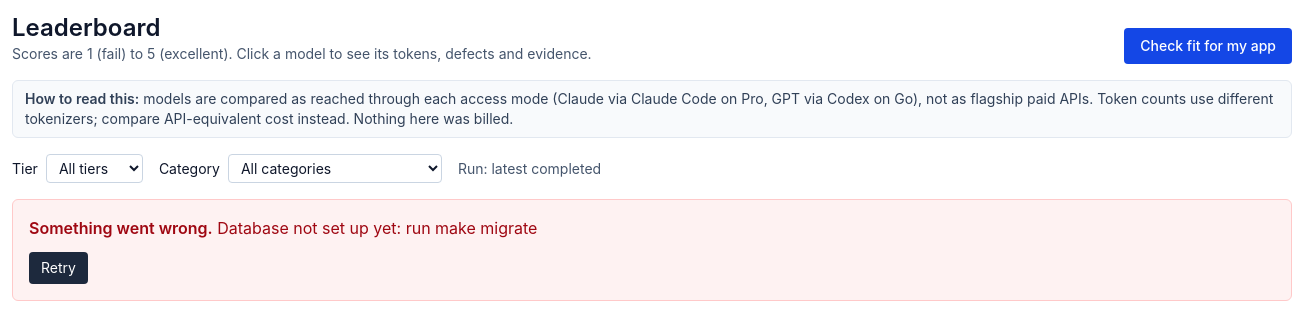
Test: LeaderboardPage (S1) › FE-AC-13: a failed request shows a plain-language error and Retry recovers
Expected: the message shows "Database not set up yet: run make migrate", [217,218,538,238]
Click the button "Retry".
click(58, 268)  # box [29,252,88,284]
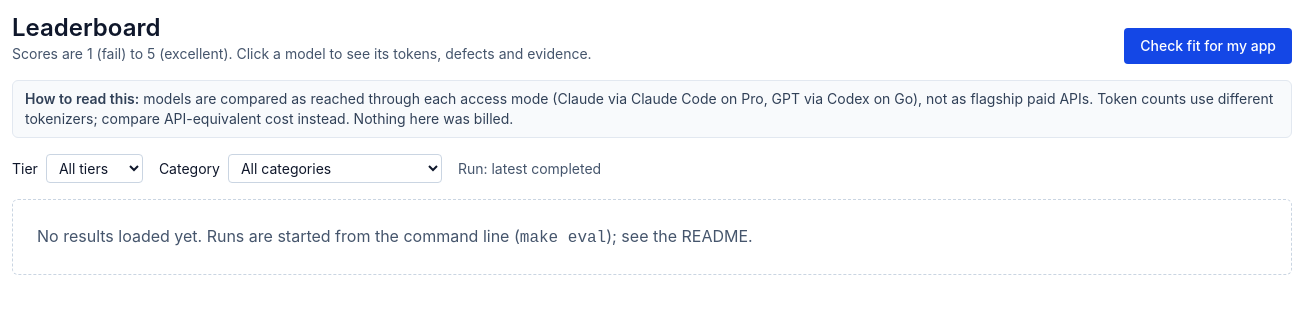
Expected: the text "No results loaded yet" is shown, [37,226,520,246]
